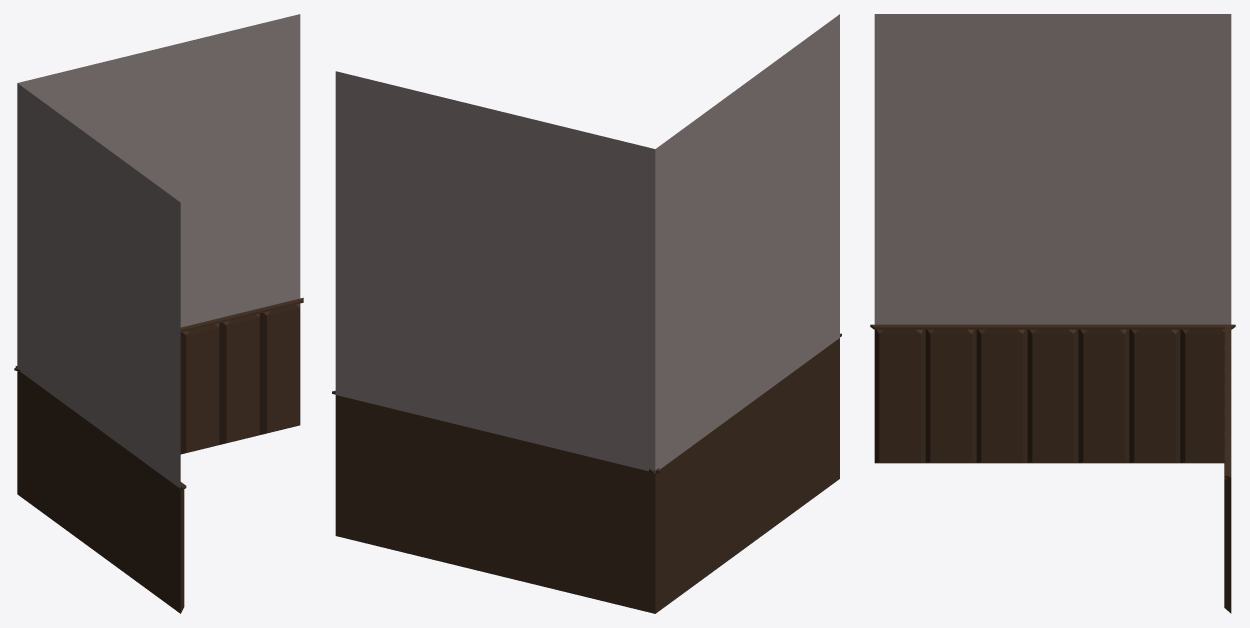
The model's file is wallCorner.fbx.
The picture shows the model from 3 angles, left to right: view 1: azimuth 30°, elevation 25°; view 2: azimuth 150°, elevation 25°; view 3: azimuth 270°, elevation 25°; orthographic projection. The views are drawn at different scales.
Parts seen in each view (by area): view 1: Corner Wall; view 2: Corner Wall; view 3: Corner Wall.
Boxes of the visible parts, x1,y1,x2,y2 form: Corner Wall: (14, 14, 303, 613); Corner Wall: (332, 14, 841, 613); Corner Wall: (870, 14, 1235, 613).
Size of the model in its own units: 184 by 250 by 184.
